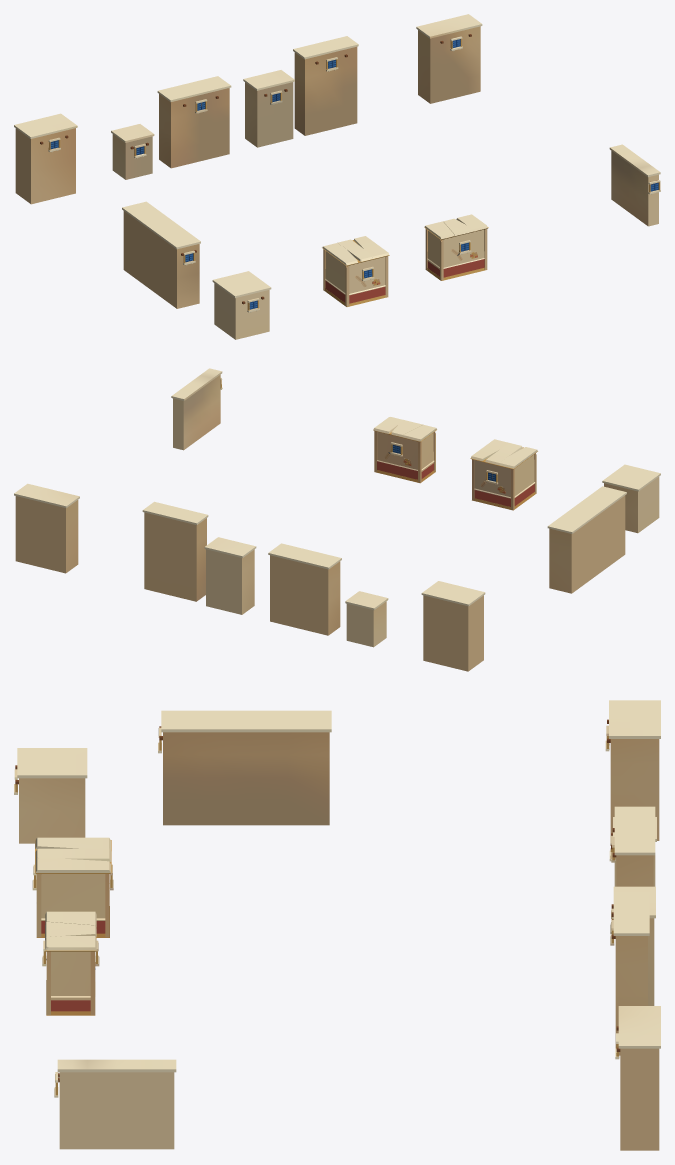
Rendered from skyline.glb.
3 views of the same model, one above another, from view 1: azimuth 30°, elevation 25°; view 2: azimuth 150°, elevation 25°; view 3: azimuth 270°, elevation 25° (orthographic). The views are drawn at different scales.
Visible parts, largest first — view 1: skyline; view 2: skyline; view 3: skyline.
Part boxes in pixels (<box>): skyline: <box>14,14,660,339</box>; skyline: <box>14,368,660,671</box>; skyline: <box>14,700,660,1150</box>.
Size of the model in its own units: 50.52 by 8.4 by 39.97.
